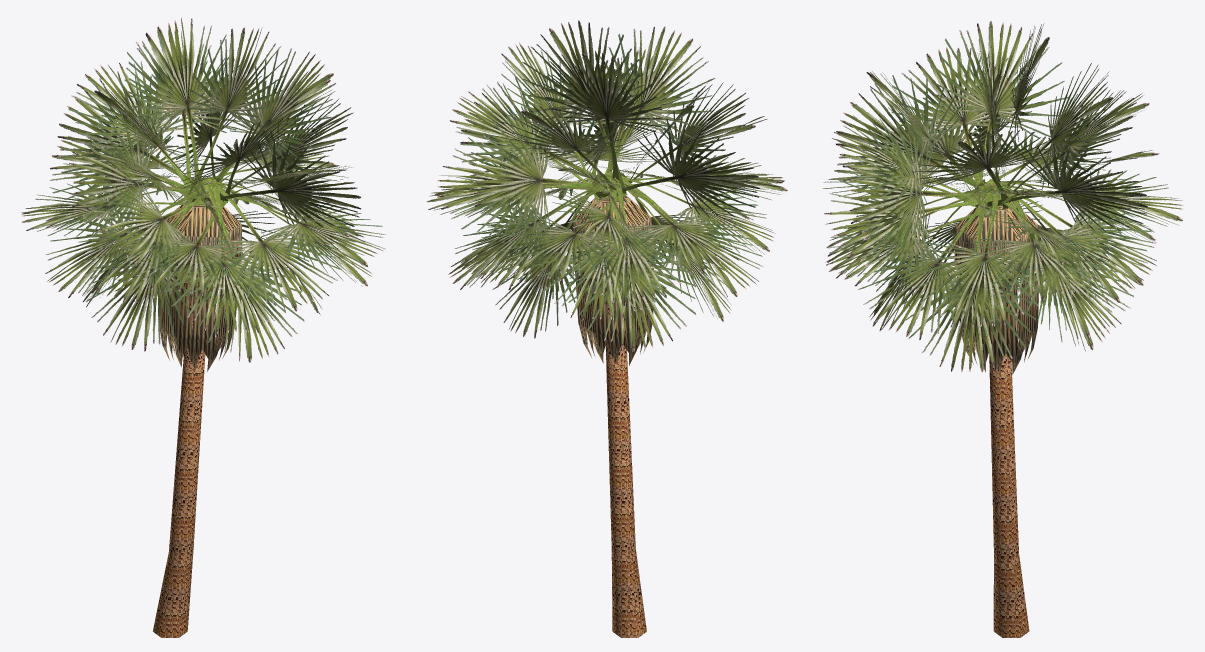
File: palam.fbx
3 views of the same model, side by side, from view 1: azimuth 30°, elevation 25°; view 2: azimuth 150°, elevation 25°; view 3: azimuth 270°, elevation 25° (orthographic). The views are drawn at different scales.
Visible parts, largest first — view 1: Trunk_Palm_hex_01_1_1, Component_8_3, temp02_22, temp02_2, temp02_28, temp02_1, temp02_36, temp02_19, temp02_16, temp02_30, temp02_4, temp02_14 (+20 smaller); view 2: Trunk_Palm_hex_01_1_1, temp02_18, temp02_38, temp02_22, temp02_36, temp02_2, temp02_7, temp02_37, Component_8_2, temp02_6, temp02_41, temp02_34 (+20 smaller); view 3: Trunk_Palm_hex_01_1_1, temp02_11, temp02_9, temp02_19, temp02_10, temp02_24, temp02_18, Component_8_1, temp02_13, temp02_12, temp02_35, temp02_23 (+23 smaller).
Part boxes in pixels (x1=…): Trunk_Palm_hex_01_1_1: x1=153, y1=295, x2=205, y2=637; Component_8_3: x1=160, y1=201, x2=220, y2=371; temp02_22: x1=127, y1=18, x2=239, y2=196; temp02_2: x1=184, y1=27, x2=286, y2=194; temp02_28: x1=206, y1=177, x2=341, y2=311; temp02_1: x1=215, y1=48, x2=335, y2=178; temp02_36: x1=69, y1=112, x2=189, y2=246; temp02_19: x1=192, y1=140, x2=360, y2=229; temp02_16: x1=156, y1=186, x2=287, y2=335; temp02_30: x1=90, y1=180, x2=208, y2=277; temp02_4: x1=85, y1=181, x2=203, y2=351; temp02_14: x1=57, y1=71, x2=194, y2=200; Trunk_Palm_hex_01_1_1: x1=604, y1=292, x2=646, y2=637; temp02_18: x1=468, y1=110, x2=598, y2=242; temp02_38: x1=600, y1=26, x2=715, y2=176; temp02_22: x1=542, y1=50, x2=661, y2=180; temp02_36: x1=595, y1=126, x2=759, y2=217; temp02_2: x1=521, y1=20, x2=647, y2=191; temp02_7: x1=561, y1=172, x2=692, y2=305; temp02_37: x1=565, y1=176, x2=696, y2=352; Component_8_2: x1=572, y1=197, x2=632, y2=365; temp02_6: x1=616, y1=186, x2=752, y2=273; temp02_41: x1=450, y1=83, x2=608, y2=198; temp02_34: x1=497, y1=193, x2=628, y2=282; Trunk_Palm_hex_01_1_1: x1=989, y1=314, x2=1029, y2=637; temp02_11: x1=931, y1=21, x2=1068, y2=206; temp02_9: x1=911, y1=182, x2=1048, y2=330; temp02_19: x1=845, y1=120, x2=978, y2=256; temp02_10: x1=903, y1=186, x2=1035, y2=372; temp02_24: x1=858, y1=189, x2=995, y2=339; temp02_18: x1=976, y1=143, x2=1147, y2=231; Component_8_1: x1=954, y1=206, x2=1018, y2=374; temp02_13: x1=966, y1=194, x2=1108, y2=301; temp02_12: x1=836, y1=75, x2=975, y2=199; temp02_35: x1=891, y1=47, x2=1031, y2=182; temp02_23: x1=987, y1=179, x2=1147, y2=304.
Size of the model in its own units: 0.6856 by 1.24 by 0.6764.
